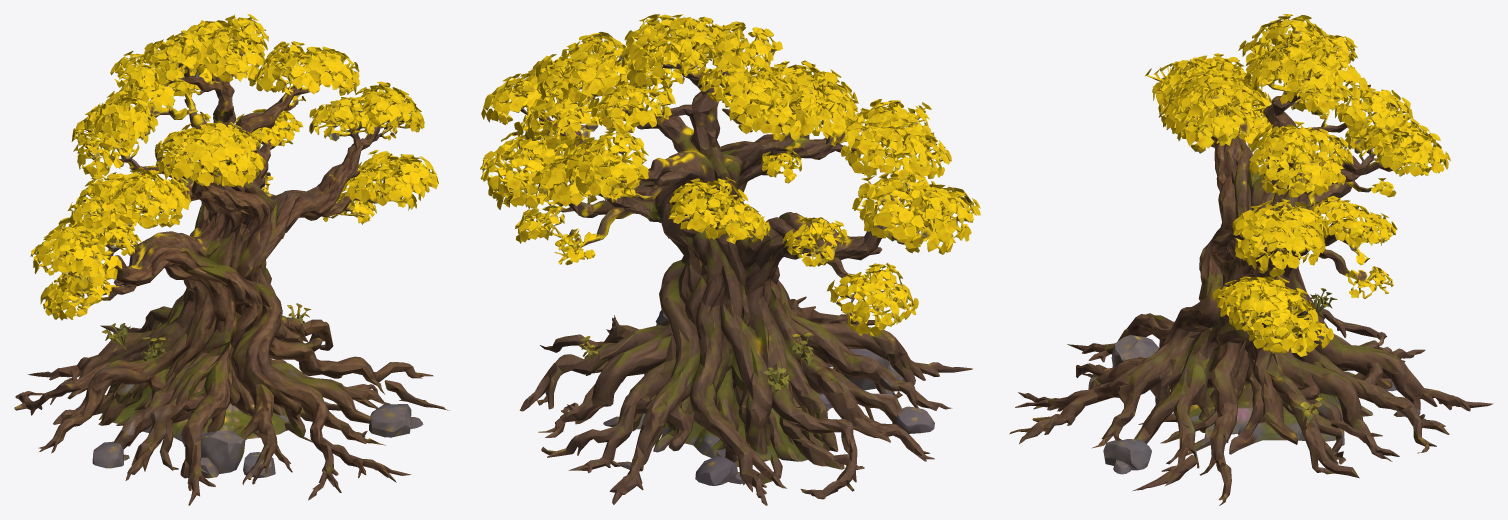
The model's file is tree.glb.
3 renders of one model, left to right at view 1: azimuth 30°, elevation 25°; view 2: azimuth 150°, elevation 25°; view 3: azimuth 270°, elevation 25°, orthographic. The views are drawn at different scales.
Parts seen in each view (by area): view 1: output_unwrapped; view 2: output_unwrapped; view 3: output_unwrapped.
Boxes of the visible parts, bbox=[...] form: output_unwrapped: bbox=[14, 14, 450, 505]; output_unwrapped: bbox=[480, 14, 980, 505]; output_unwrapped: bbox=[1009, 14, 1493, 505].
Bounding box in the file's own units: 1.89 × 1.58 × 1.84.
1 material, 1 textured.
